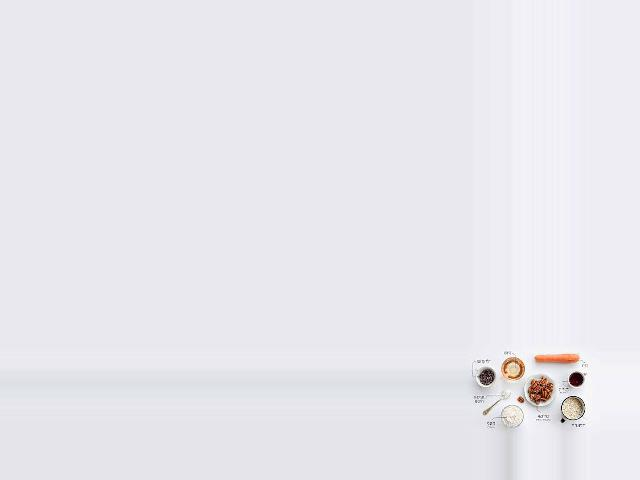carrot: (529, 351, 583, 368)
